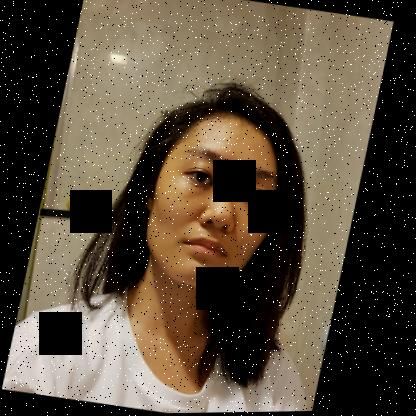Female: (133, 106, 295, 297)
